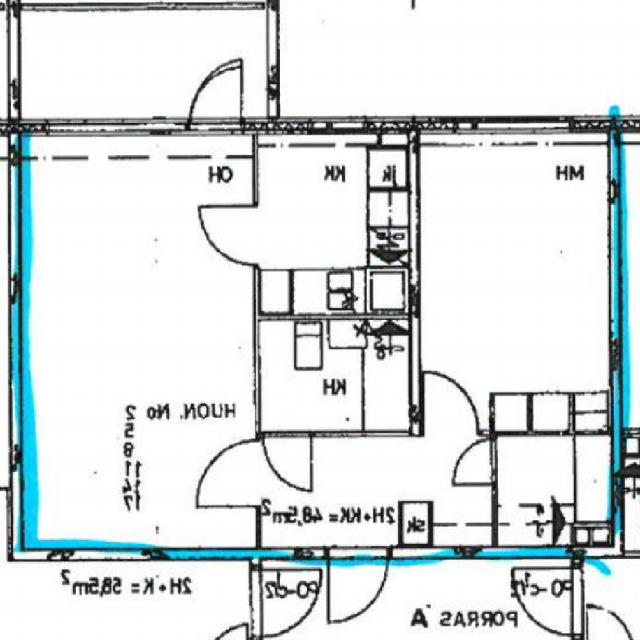door: (329, 548, 388, 626), (195, 440, 260, 505), (189, 60, 242, 132), (424, 370, 479, 437), (201, 206, 260, 265), (263, 431, 312, 490), (449, 438, 497, 485)
